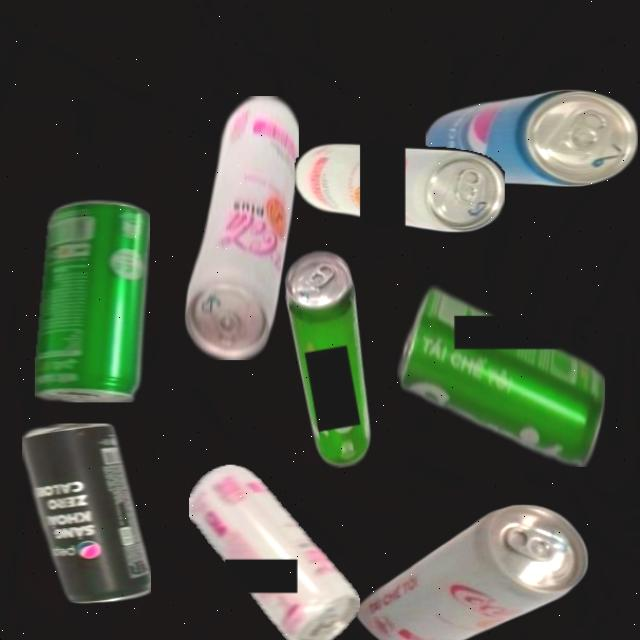debris: (396, 284, 605, 467), (354, 504, 588, 640), (183, 95, 299, 360), (189, 463, 360, 640), (279, 245, 385, 472), (34, 200, 150, 402), (21, 424, 151, 604), (424, 89, 638, 187), (294, 144, 504, 232)
